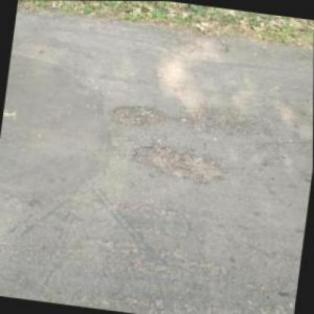Hueco: (128, 138, 233, 187), (186, 103, 259, 141), (110, 100, 167, 130)
